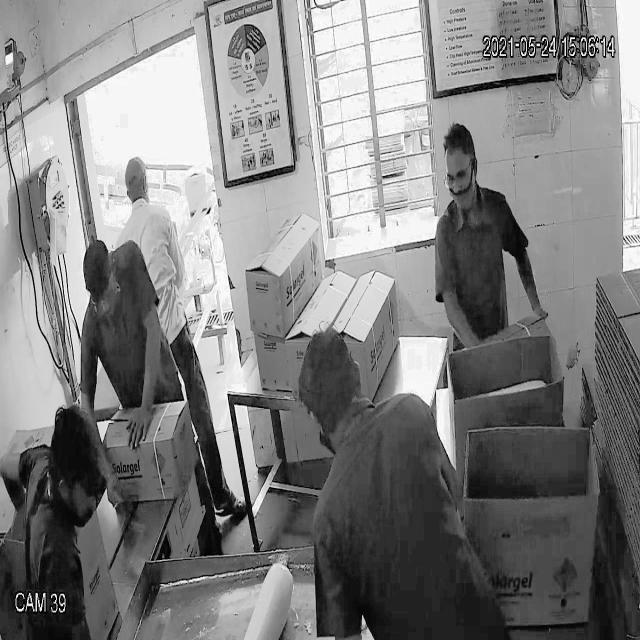glasses: (444, 159, 474, 192)
